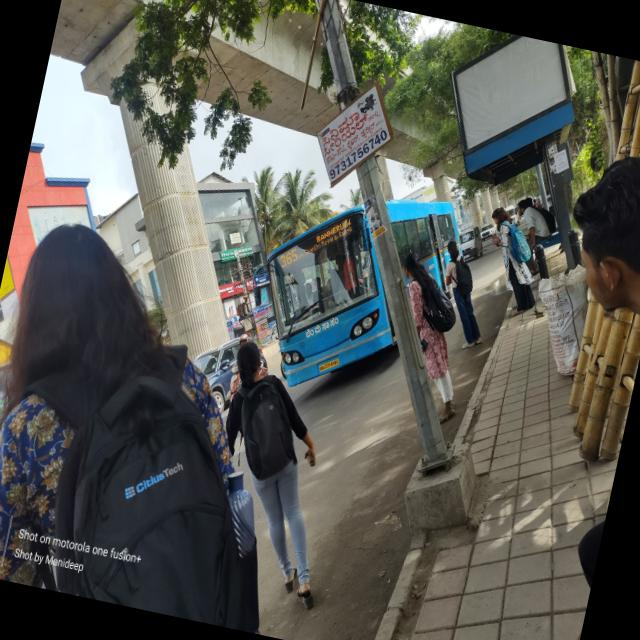bus: (232, 161, 488, 405)
display: (261, 196, 361, 288)
dnumber: (274, 242, 302, 272)
